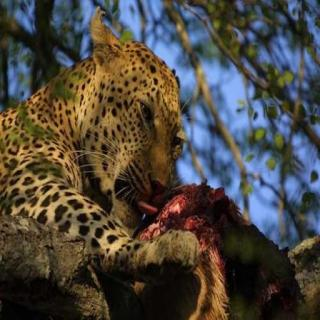Leopard: (10, 9, 218, 312)
